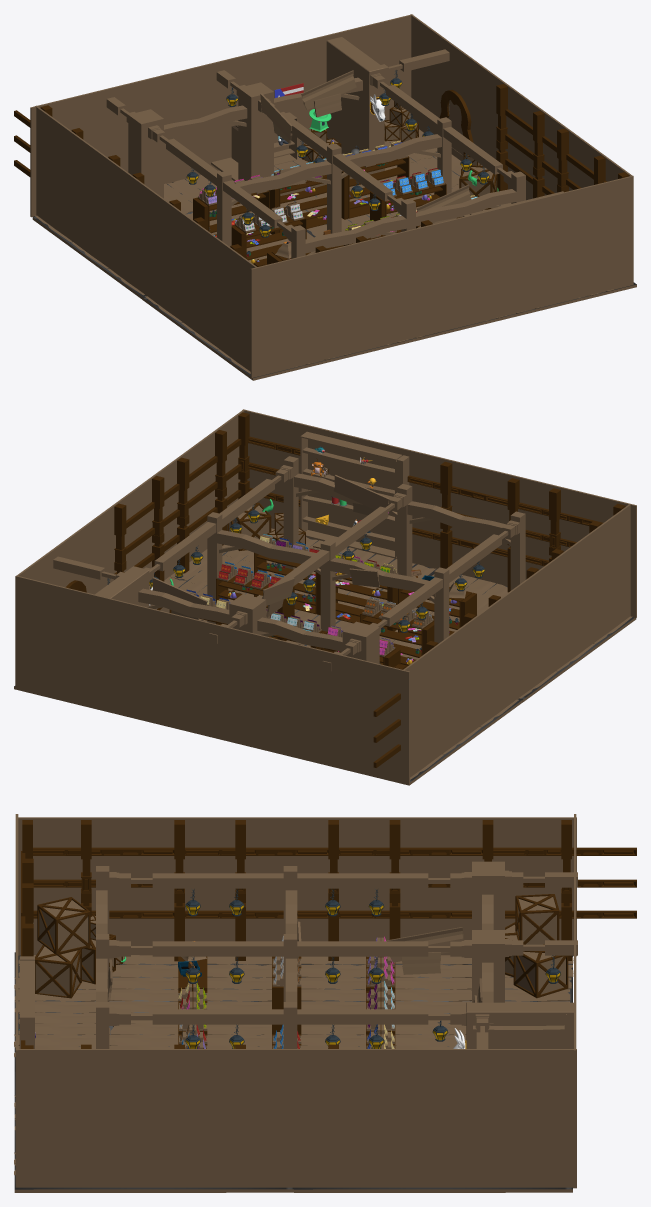
The model's file is StoreInteriorUnityExportVer.fbx.
3 renders of one model, top to bottom at view 1: azimuth 30°, elevation 25°; view 2: azimuth 150°, elevation 25°; view 3: azimuth 270°, elevation 25°, orthographic. The views are drawn at different scales.
Parts seen in each view (by area): view 1: StoreLayoutTest, Counter, Cube.004, Cube.009, GroundBase.002, GroundBase, GroundBase.003, Shelf.001, OverHang.004, OverHang.002, OverHang.001, OverHang.003 (+27 smaller); view 2: StoreLayoutTest, Shelf.005, GroundBase.001, GroundBase.003, OverHang.004, OverHang.001, OverHang, Shelf.006, OverHang.005, OverHang.003, Shelf.010, Counter (+33 smaller); view 3: StoreLayoutTest, GroundBase.003, GroundBase.002, Crate.006, Crate.007, Counter, CielingRod.002, CielingRod.003, CielingRod.005, CielingRod.006, CielingRod.004, CielingRod (+32 smaller).
Boxes of the visible parts, x1,y1,x2,y2 form: StoreLayoutTest: (30, 14, 633, 378); Counter: (280, 37, 384, 195); Cube.004: (211, 82, 273, 180); Cube.009: (128, 109, 163, 198); GroundBase.002: (32, 170, 314, 299); GroundBase: (274, 127, 511, 236); GroundBase.003: (142, 296, 443, 380); Shelf.001: (341, 156, 409, 219); OverHang.004: (305, 215, 406, 254); OverHang.002: (416, 189, 516, 227); OverHang.001: (341, 134, 441, 178); OverHang.003: (231, 161, 331, 205); StoreLayoutTest: (15, 409, 636, 784); Shelf.005: (300, 431, 409, 558); GroundBase.001: (164, 528, 436, 647); GroundBase.003: (334, 573, 636, 702); OverHang.004: (407, 501, 510, 545); OverHang.001: (213, 530, 321, 574); OverHang: (138, 588, 229, 624); Shelf.006: (335, 573, 397, 631); OverHang.005: (257, 617, 342, 651); OverHang.003: (326, 557, 435, 602); Shelf.010: (360, 611, 434, 666); Counter: (95, 566, 149, 606); StoreLayoutTest: (15, 814, 576, 1188); GroundBase.003: (14, 952, 271, 1071); GroundBase.002: (301, 955, 573, 1048); Crate.006: (35, 897, 115, 998); Crate.007: (505, 894, 568, 998); Counter: (466, 1002, 573, 1048); CielingRod.002: (109, 1008, 283, 1025); CielingRod.003: (109, 940, 283, 957); CielingRod.005: (109, 872, 283, 889); CielingRod.006: (297, 872, 471, 889); CielingRod.004: (297, 940, 471, 957); CielingRod: (297, 1008, 466, 1025).
Size of the model in its own units: 4643 by 4194 by 1179.
